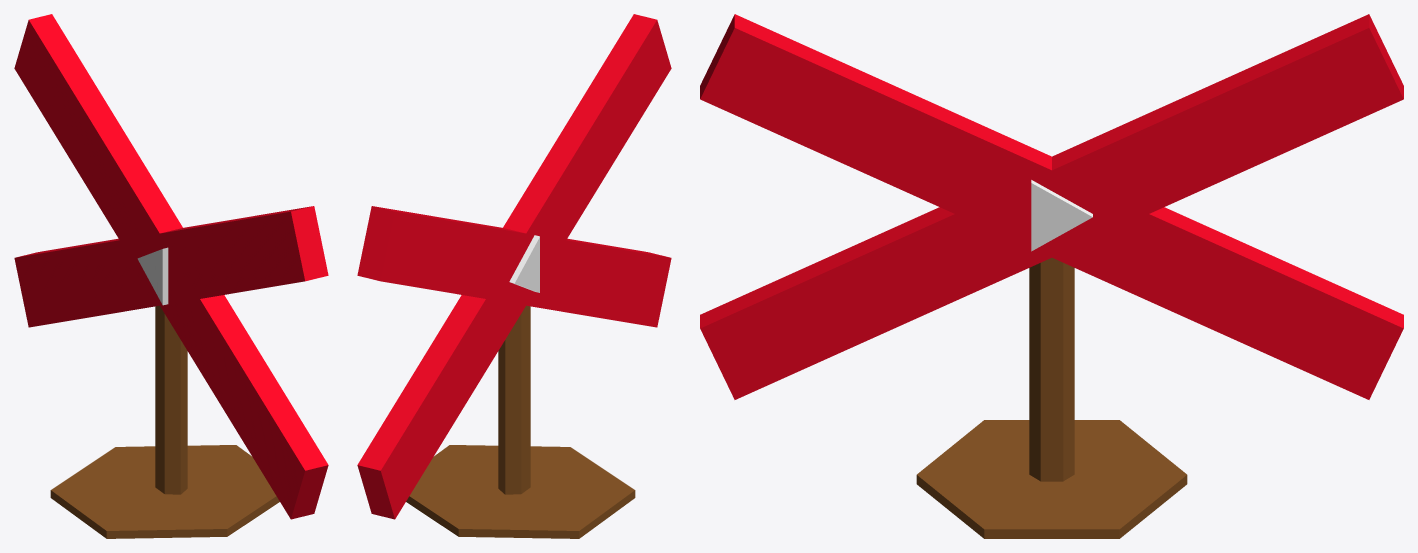
Rendered from obstacle.gltf.
3 views of the same model, side by side, from view 1: azimuth 30°, elevation 25°; view 2: azimuth 150°, elevation 25°; view 3: azimuth 270°, elevation 25° (orthographic). The views are drawn at different scales.
Parts seen in each view (by area): view 1: Cube, Cube.001, Cylinder.002, Cylinder.001, Cylinder; view 2: Cube.001, Cube, Cylinder.002, Cylinder.001, Cylinder; view 3: Cube, Cube.001, Cylinder.002, Cylinder.001, Cylinder.
Boxes of the visible parts, box(x1,y1,x2,y2) form: Cube: box(14, 14, 328, 519); Cube.001: box(14, 206, 328, 327); Cylinder.002: box(50, 445, 279, 538); Cylinder.001: box(155, 305, 187, 494); Cylinder: box(137, 247, 168, 305); Cube.001: box(357, 14, 671, 519); Cube: box(357, 206, 671, 327); Cylinder.002: box(406, 445, 635, 538); Cylinder.001: box(498, 305, 530, 494); Cylinder: box(509, 235, 539, 292); Cube: box(700, 14, 1403, 399); Cube.001: box(700, 14, 1403, 399); Cylinder.002: box(916, 420, 1187, 538); Cylinder.001: box(1029, 258, 1074, 481); Cylinder: box(1031, 180, 1092, 251).
Bounding box in the file's own units: 1.19 × 2.34 × 3.23.
